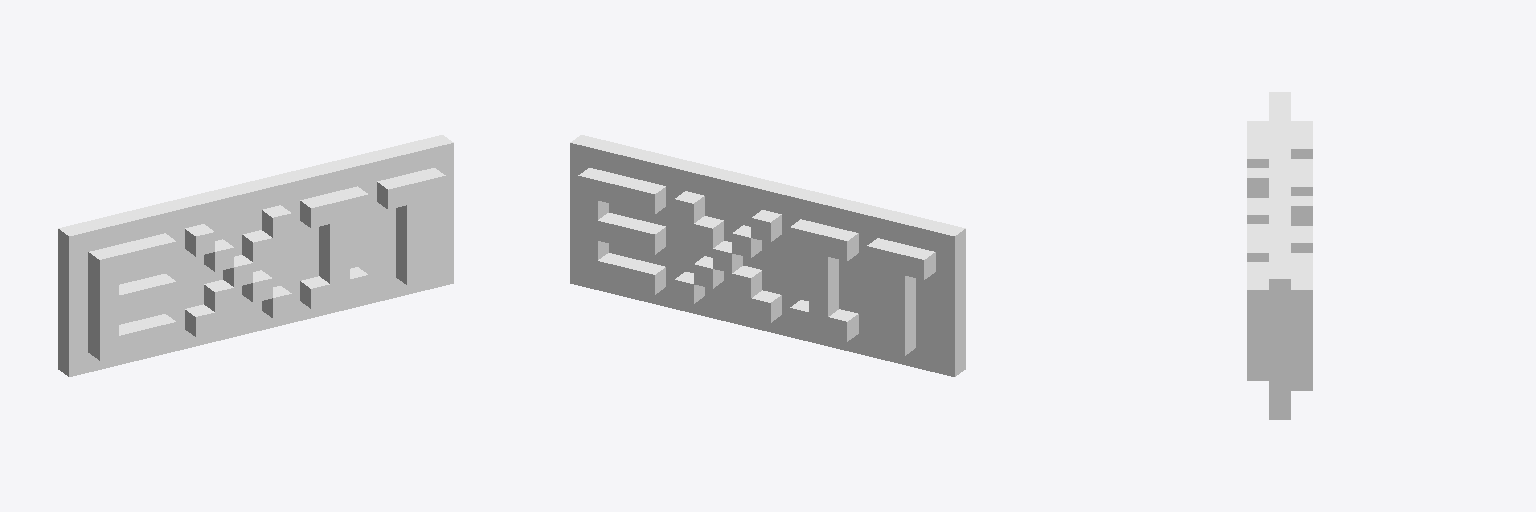
File: exit.obj
The picture shows the model from 3 angles: view 1: azimuth 30°, elevation 25°; view 2: azimuth 150°, elevation 25°; view 3: azimuth 270°, elevation 25°; orthographic projection.
Parts seen in each view (by area): view 1: exit; view 2: exit; view 3: exit.
Part boxes in pixels (x1,y1,x2,y2): exit: (58,135,453,376); exit: (570,135,965,376); exit: (1247,92,1312,419).
Bounding box in the file's own units: 20 × 7 × 3.